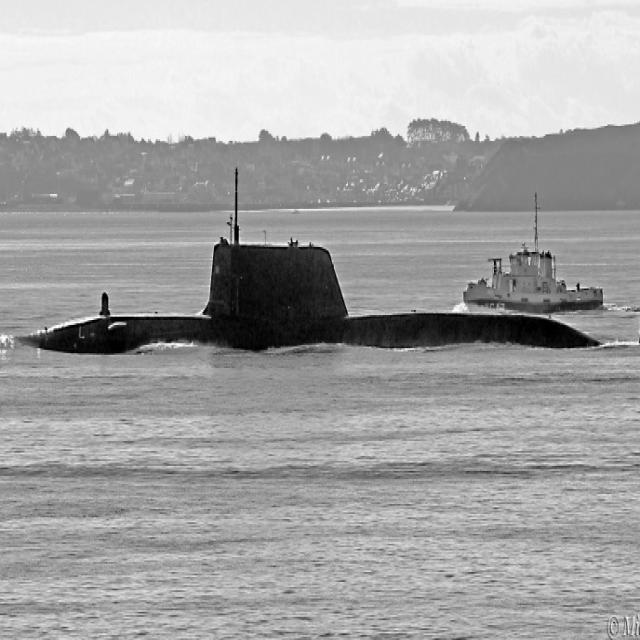submarine: (18, 244, 640, 352)
